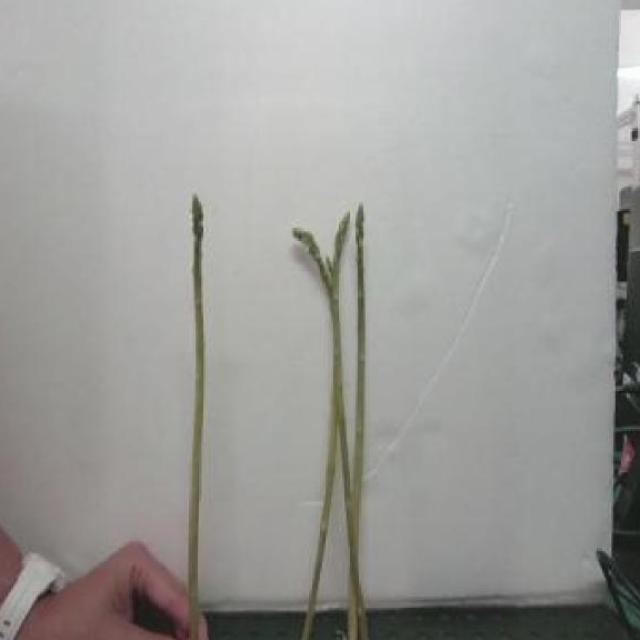aspargus: (186, 195, 207, 640)
